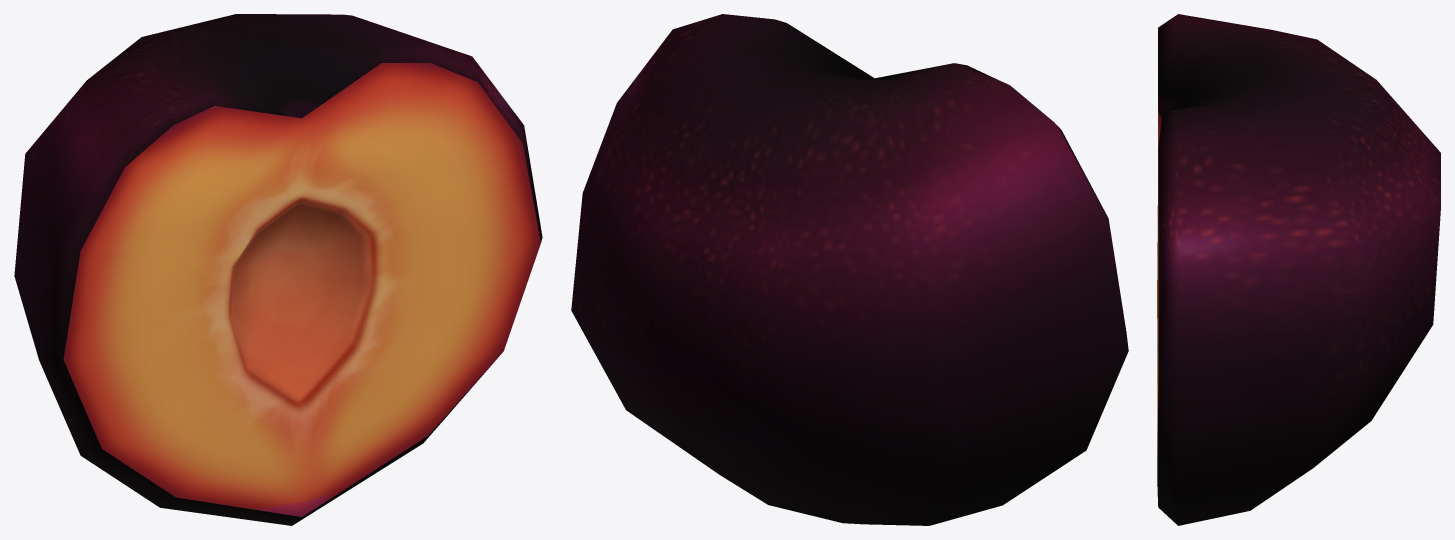
File: Plum_Half.fbx
3 views of the same model, side by side, from view 1: azimuth 30°, elevation 25°; view 2: azimuth 150°, elevation 25°; view 3: azimuth 270°, elevation 25° (orthographic). The views are drawn at different scales.
Parts seen in each view (by area): view 1: Plum_Half; view 2: Plum_Half; view 3: Plum_Half.
Boxes of the visible parts, bbox=[...] form: Plum_Half: bbox=[14, 14, 542, 525]; Plum_Half: bbox=[571, 14, 1128, 525]; Plum_Half: bbox=[1157, 14, 1440, 525].
Bounding box in the file's own units: 27.9 × 24.22 × 14.11.
